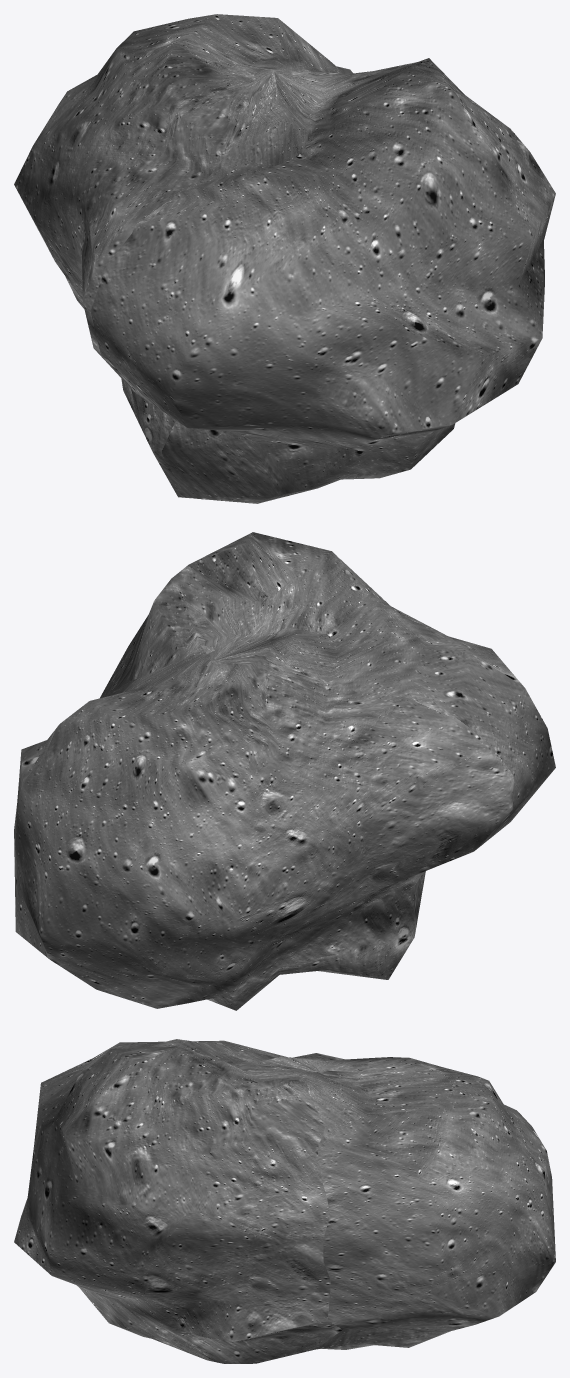
File: rock5.fbx
The picture shows the model from 3 angles, top to bottom: view 1: azimuth 30°, elevation 25°; view 2: azimuth 150°, elevation 25°; view 3: azimuth 270°, elevation 25°; orthographic projection. The views are drawn at different scales.
Visible parts, largest first — view 1: pSphere1; view 2: pSphere1; view 3: pSphere1.
Boxes of the visible parts, <box> form: pSphere1: <box>14,14,555,503</box>; pSphere1: <box>14,532,555,1010</box>; pSphere1: <box>14,1039,555,1363</box>.
Bounding box in the file's own units: 14.17 × 12.76 × 18.84.
